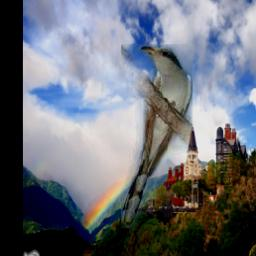Cuckoo: (121, 45, 192, 229)
